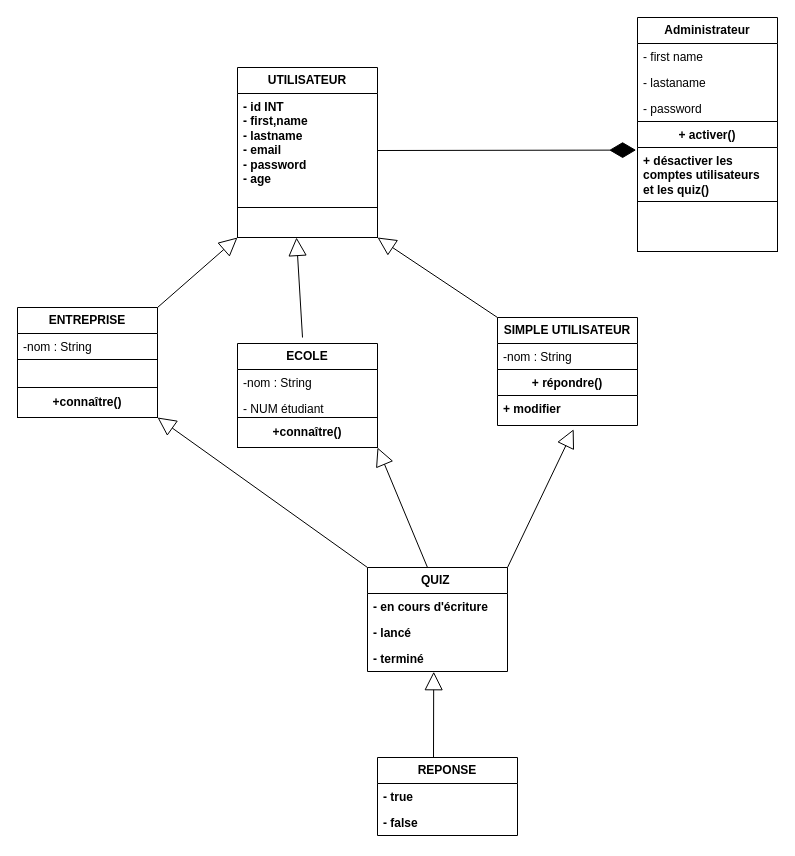
This 795x856 diagram has some shape labels left out. Each missing label, with the centre of its shape:
+ voir des accès restreint: point 707,226
+création(): point 307,222
- code d'invitation : String: point 87,373
